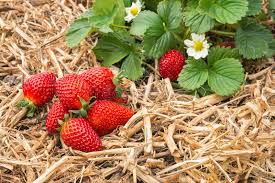ripe: (85, 97, 135, 134), (58, 115, 105, 152), (57, 71, 95, 113), (79, 65, 122, 99), (28, 68, 56, 110), (43, 94, 72, 134), (158, 47, 188, 83)
